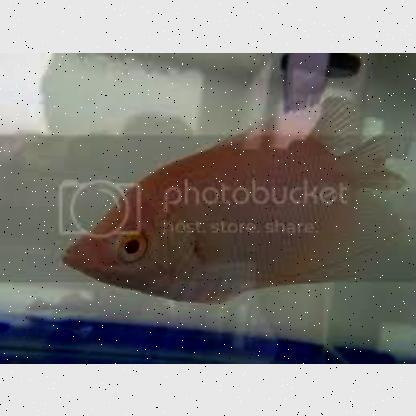gurame: (64, 132, 416, 306)
